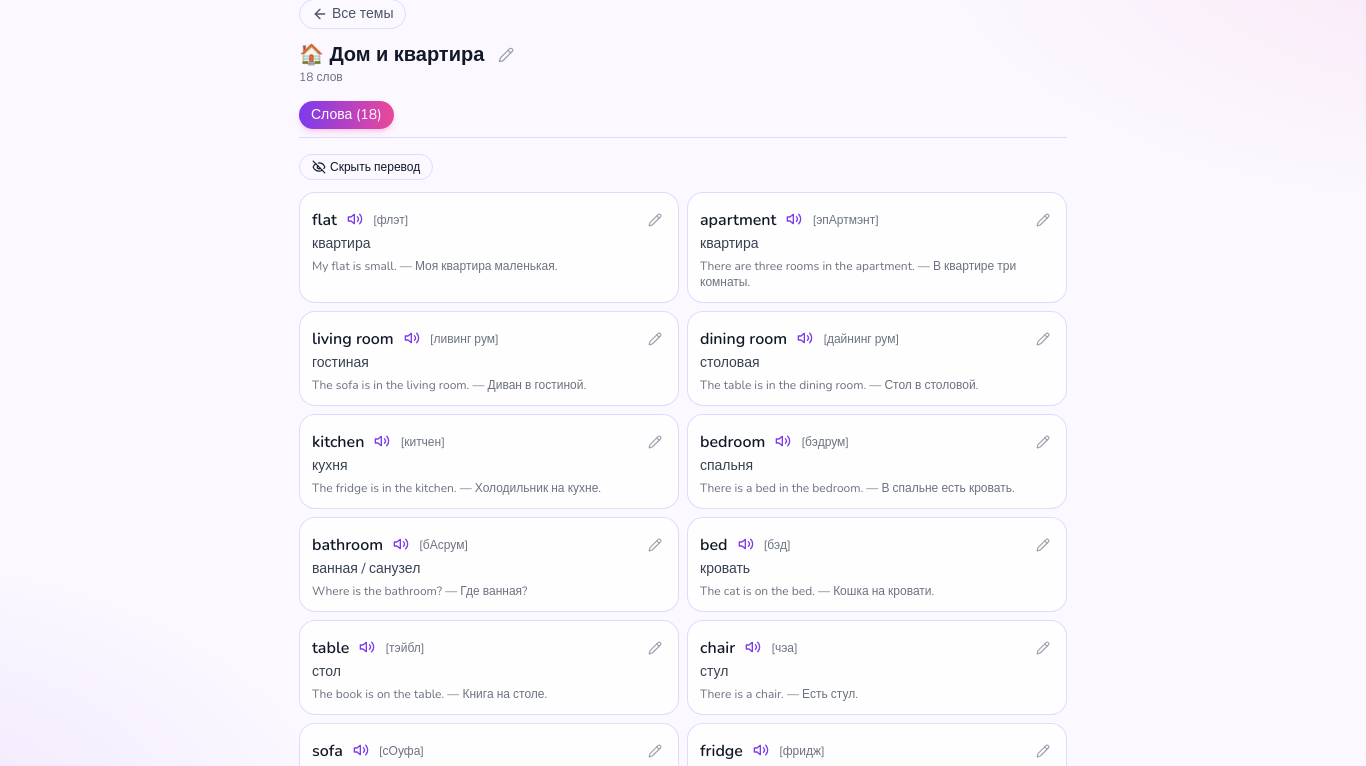
Test: TopicPage editing › edits a word, keeps its progress and protects it from seed updates
This screenshot has width=1366, height=766.
Step 1. Click the button named "Изменить sofa" → (655, 750), box [644, 740, 666, 762]
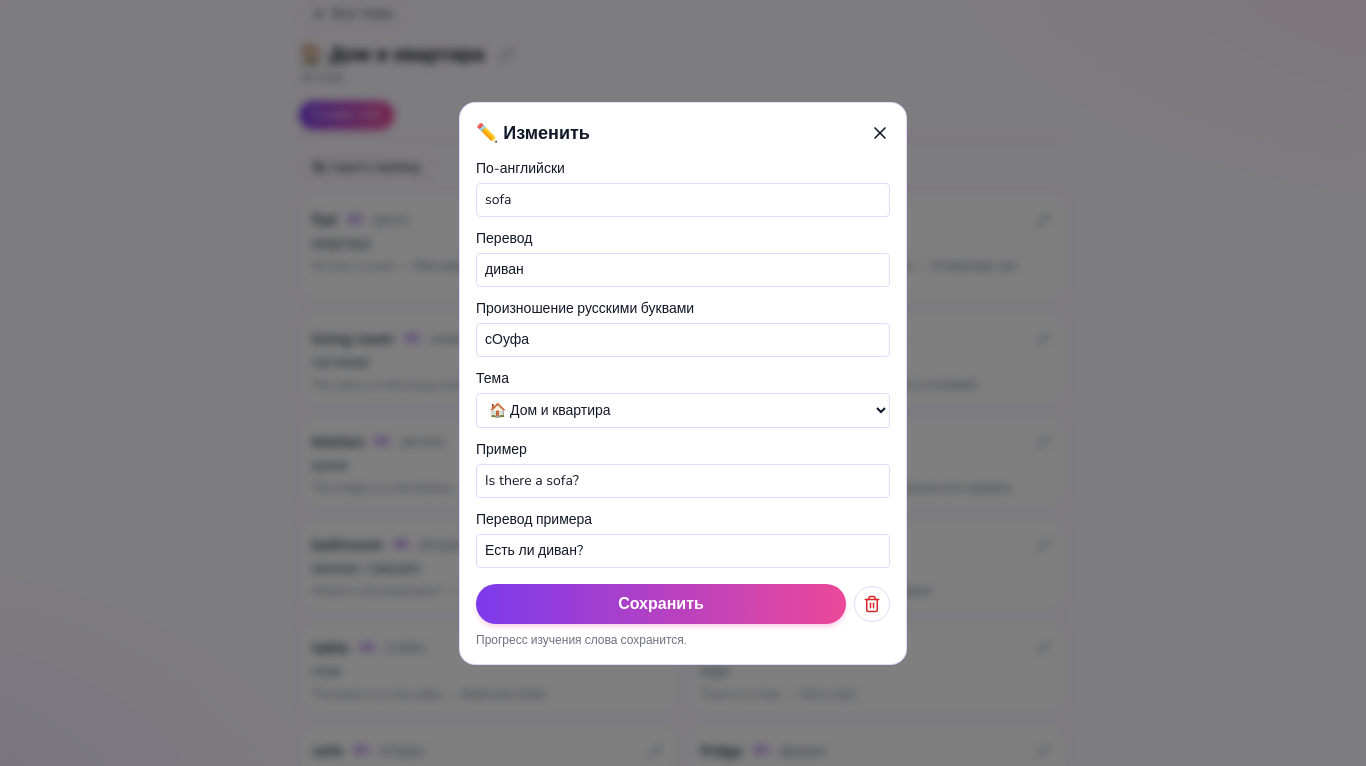
Step 2. Replace the text in the field labelled "Перевод" with "диван, софа" → (683, 270), box [476, 252, 890, 286]
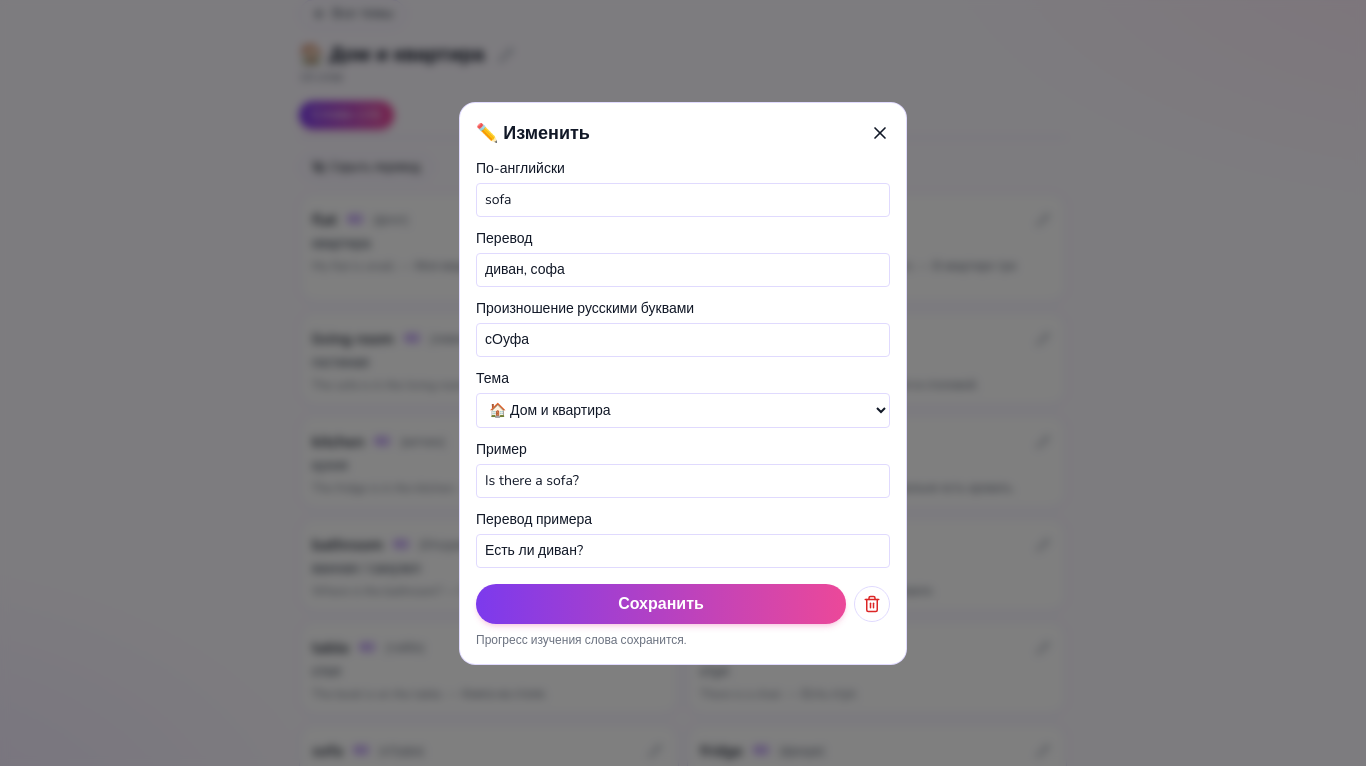
Step 3. Click the button "Сохранить" → (661, 604), box [476, 584, 846, 624]
(page scrolled)
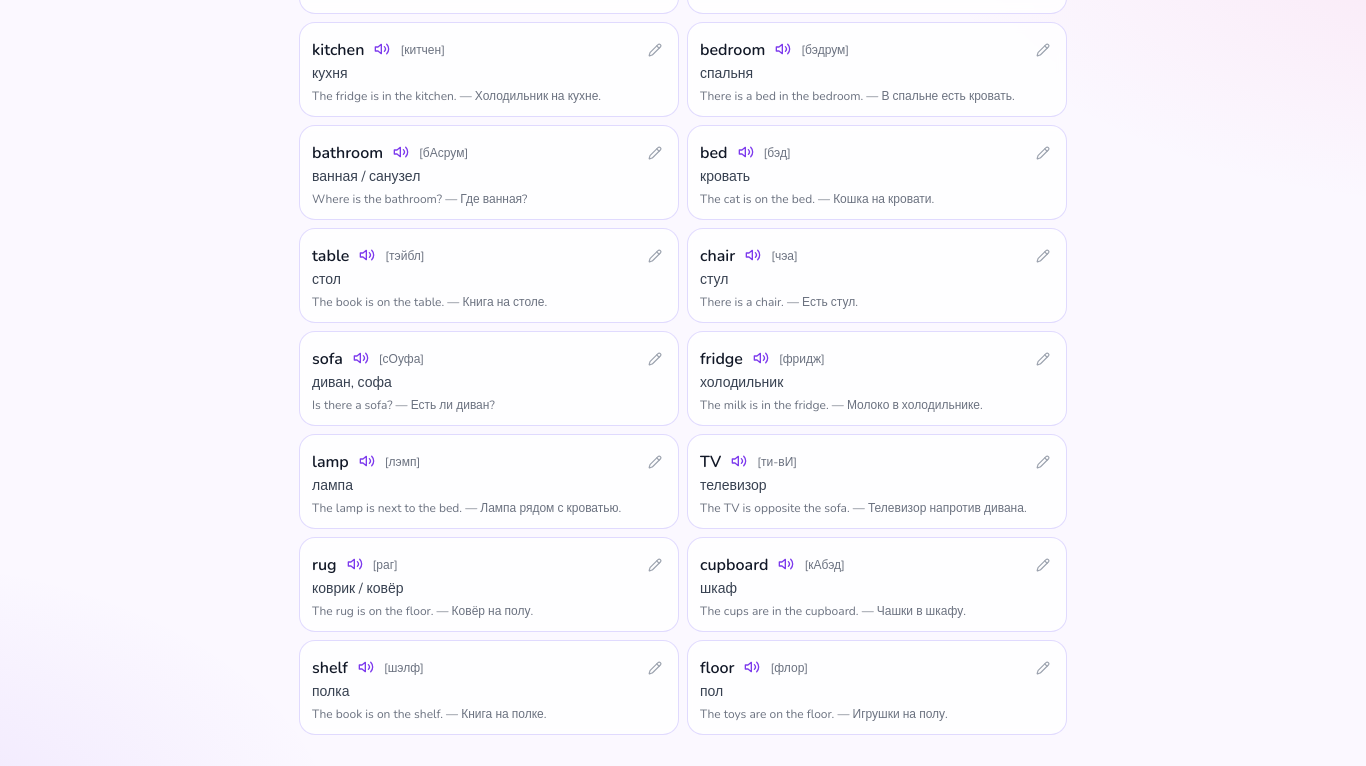
Expected: the text "диван, софа" is shown, [312, 373, 392, 392]
